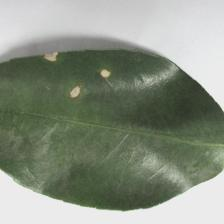greening: (42, 48, 112, 102)
